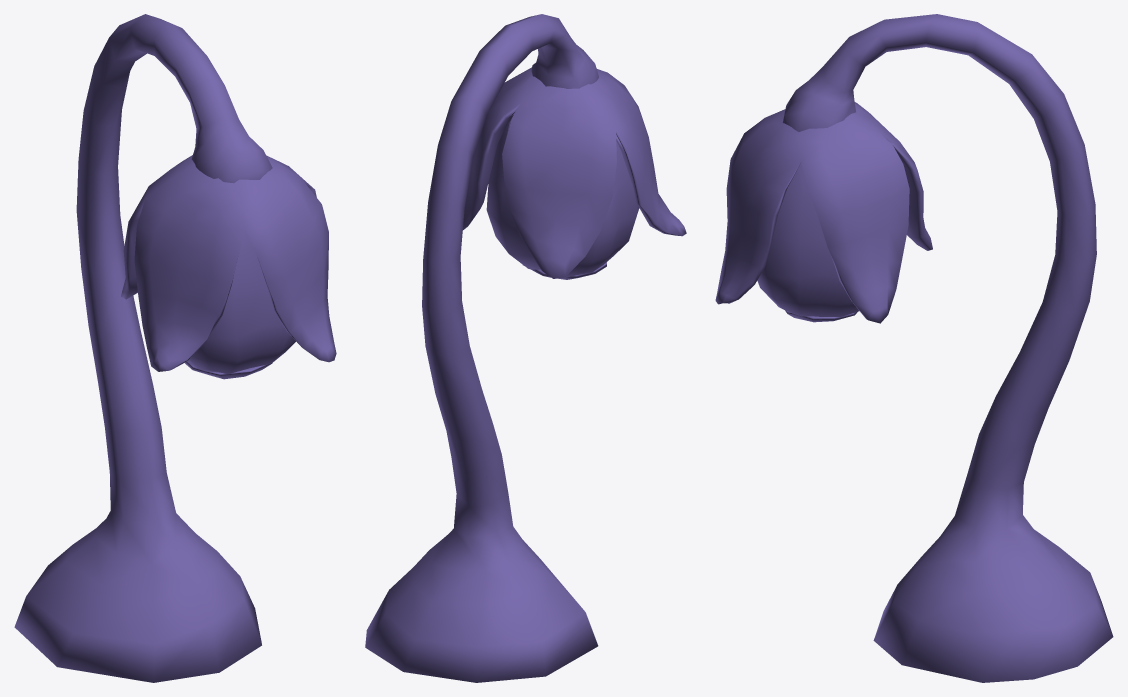
File: lampara.fbx
3 views of the same model, side by side, from view 1: azimuth 30°, elevation 25°; view 2: azimuth 150°, elevation 25°; view 3: azimuth 270°, elevation 25° (orthographic). The views are drawn at different scales.
Visible parts, largest first — view 1: talloLampara_lp, petalos_lp, foco_lp; view 2: talloLampara_lp, petalos_lp, foco_lp; view 3: talloLampara_lp, petalos_lp, foco_lp.
Part boxes in pixels (x1,y1,x2,y2): talloLampara_lp: [14, 14, 272, 682]; petalos_lp: [121, 155, 336, 371]; foco_lp: [187, 231, 295, 373]; talloLampara_lp: [365, 14, 598, 682]; petalos_lp: [462, 67, 686, 278]; foco_lp: [486, 119, 639, 277]; talloLampara_lp: [782, 14, 1113, 682]; petalos_lp: [715, 102, 932, 323]; foco_lp: [757, 163, 859, 316].
Bounding box in the file's own units: 51.86 × 148 × 86.42.
